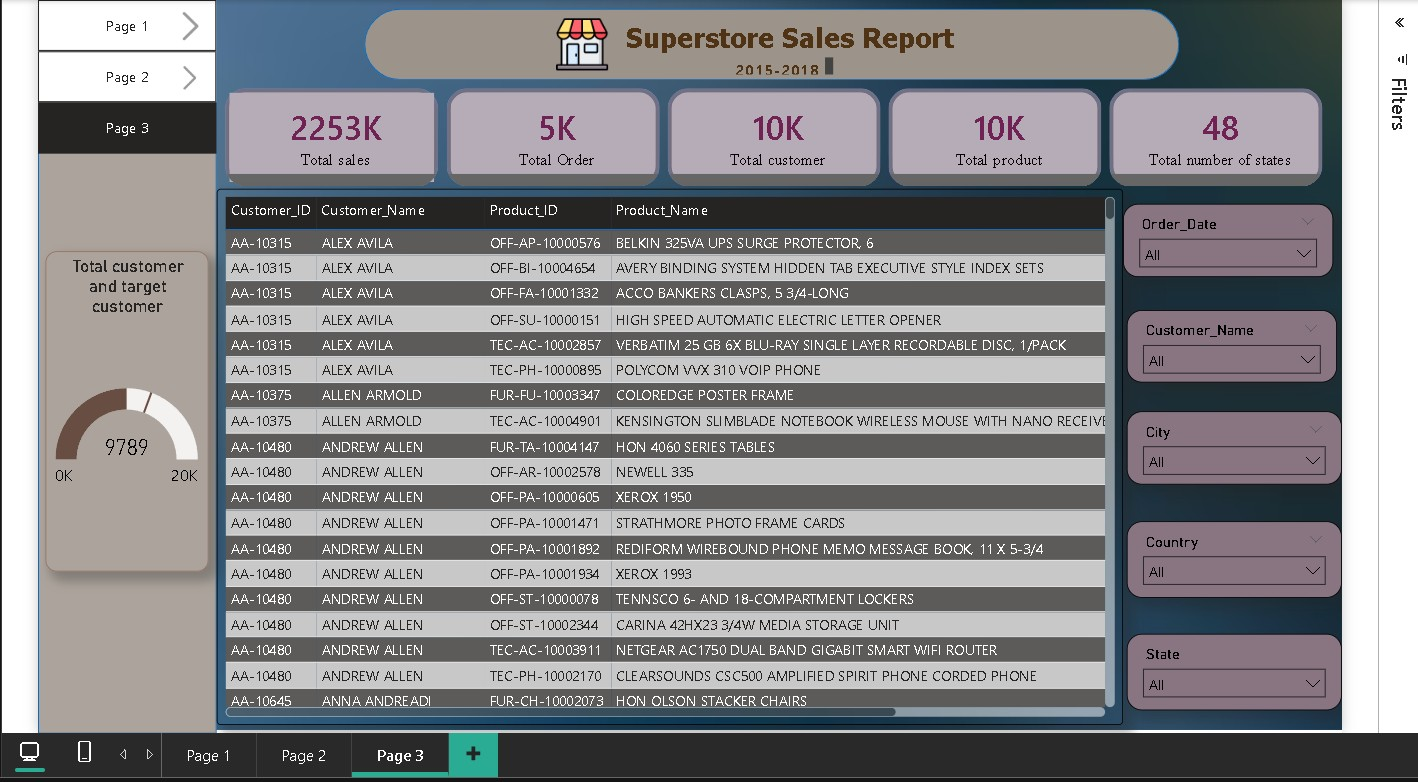

Layout of this report page (visuals, bound fields, positions):
{"tool":"powerbi","page":{"name":"Page 3","canvas":[1280,720],"ordinal":2},"visuals":[{"type":"shape","box":[0,0,175.5,720.2],"z":0},{"type":"pageNavigator","box":[0,0,175.5,50.3],"z":1000},{"type":"pageNavigator","box":[0,50.3,175.5,50.3],"z":2000},{"type":"pageNavigator","box":[0,100.6,175.5,50.3],"z":3000},{"type":"cardVisual","fields":{"Data":["superstore_final_dataset (1).total sales","superstore_final_dataset (1).total order","superstore_final_dataset (1).total customer","superstore_final_dataset (1).total product","superstore_final_dataset (1).total number of states"]},"box":[166.9,69.9,1112.9,130.1],"z":4000},{"type":"tableEx","fields":{"Values":["superstore_final_dataset (1).Customer_ID","superstore_final_dataset (1).Customer_Name","superstore_final_dataset (1).Product_ID","superstore_final_dataset (1).Product_Name","superstore_final_dataset (1).Total Order","superstore_final_dataset (1).Country","superstore_final_dataset (1).Region"]},"box":[175.5,185.3,889.6,526.4],"z":5000},{"type":"slicer","fields":{"Values":["superstore_final_dataset (1).Order_Date"]},"box":[1065,200,206.1,72.4],"z":6000},{"type":"slicer","fields":{"Values":["superstore_final_dataset (1).Customer_Name"]},"box":[1068.7,304.3,206.1,71.2],"z":7000},{"type":"slicer","fields":{"Values":["superstore_final_dataset (1).City"]},"box":[1068.7,403.7,211,72.4],"z":8000},{"type":"slicer","fields":{"Values":["superstore_final_dataset (1).Country"]},"box":[1068.7,511.7,211,74.8],"z":9000},{"type":"slicer","fields":{"Values":["superstore_final_dataset (1).State"]},"box":[1068.7,622.1,211,74.8],"z":10000},{"type":"shape","box":[320.2,8.6,800,69.9],"z":11000},{"type":"textbox","box":[571.8,16,348.5,49.1],"z":12000},{"type":"textbox","box":[679.8,51.5,105.5,27],"z":13000},{"type":"image","box":[495.7,17.2,76.1,52.8],"z":14000},{"type":"image","box":[125.2,3.7,47.9,44.2],"z":15000},{"type":"image","box":[130.1,56.4,36.8,39.3],"z":16000},{"type":"gauge","fields":{"Y":["superstore_final_dataset (1).total customer"],"TargetValue":["superstore_final_dataset (1).target customer"]},"box":[7,246.3,160,314.4],"z":18000}]}

Visuals, with their boxes on the page's 1280x720 design canvas (x1, y1, x2, y2). These are canvas units, not pixel positions in the 1418x782 screenshot, which may show the page scaled, cropped or inside an application window:
shape: bbox(0, 0, 176, 720)
pageNavigator: bbox(0, 0, 176, 50)
pageNavigator: bbox(0, 50, 176, 101)
pageNavigator: bbox(0, 101, 176, 151)
cardVisual - superstore_final_dataset (1).total sales x superstore_final_dataset (1).total order: bbox(167, 70, 1280, 200)
tableEx - superstore_final_dataset (1).Customer_ID x superstore_final_dataset (1).Customer_Name: bbox(176, 185, 1065, 712)
slicer - superstore_final_dataset (1).Order_Date: bbox(1065, 200, 1271, 272)
slicer - superstore_final_dataset (1).Customer_Name: bbox(1069, 304, 1275, 376)
slicer - superstore_final_dataset (1).City: bbox(1069, 404, 1280, 476)
slicer - superstore_final_dataset (1).Country: bbox(1069, 512, 1280, 586)
slicer - superstore_final_dataset (1).State: bbox(1069, 622, 1280, 697)
shape: bbox(320, 9, 1120, 78)
textbox: bbox(572, 16, 920, 65)
textbox: bbox(680, 52, 785, 78)
image: bbox(496, 17, 572, 70)
image: bbox(125, 4, 173, 48)
image: bbox(130, 56, 167, 96)
gauge - superstore_final_dataset (1).total customer x superstore_final_dataset (1).target customer: bbox(7, 246, 167, 561)
